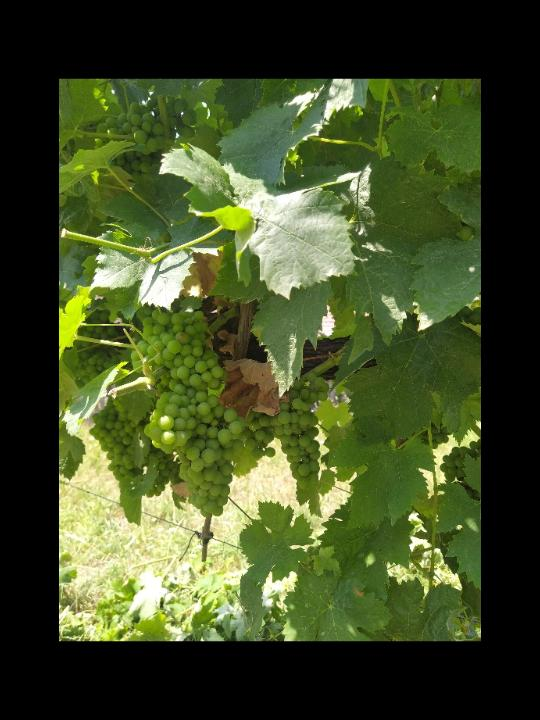grape: (142, 383, 247, 519), (254, 369, 331, 491), (135, 307, 229, 391)
